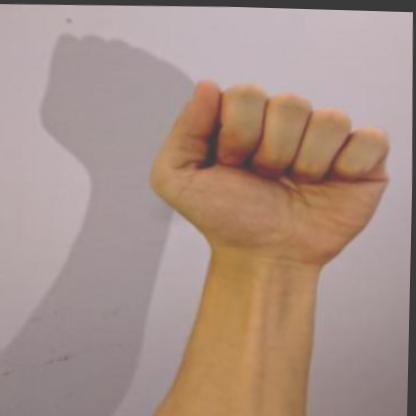A: (135, 61, 405, 288)
